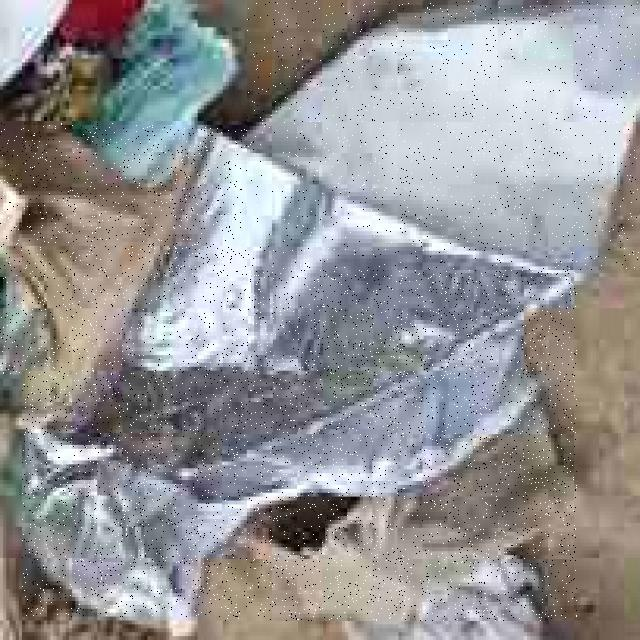metal: (22, 127, 577, 616)
paper: (248, 1, 639, 269), (223, 432, 573, 621), (0, 123, 175, 374)
